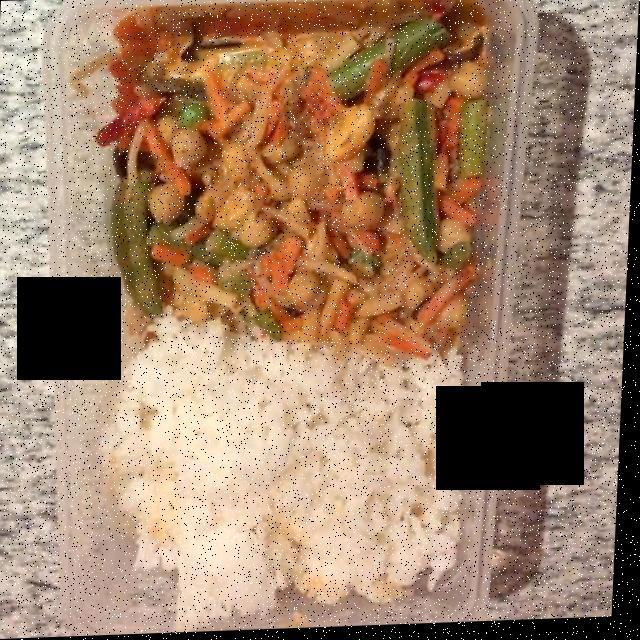curry-vegetarian: (95, 4, 489, 363)
rice: (107, 324, 465, 622)
